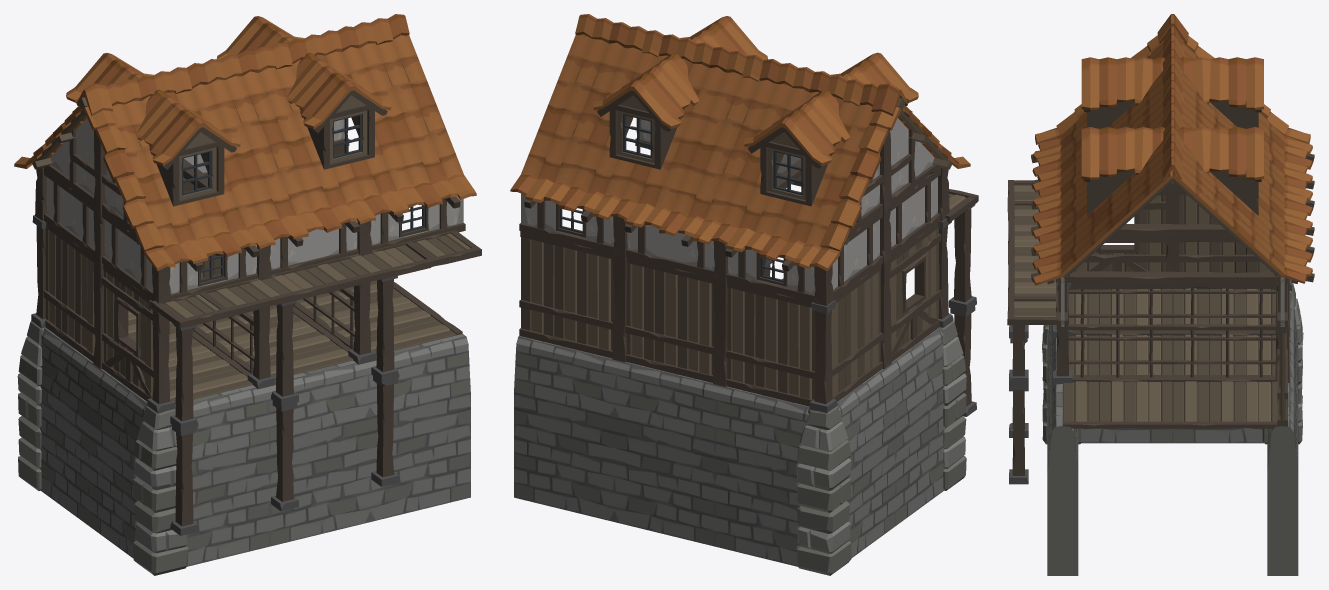
Rendered from SM_Bld_Preset_Stables_01_Optimized.glb.
3 renders of one model, left to right at view 1: azimuth 30°, elevation 25°; view 2: azimuth 150°, elevation 25°; view 3: azimuth 270°, elevation 25°, orthographic. The views are drawn at different scales.
Visible parts, largest first — view 1: SM_Bld_Preset_Stables_01_Optimized; view 2: SM_Bld_Preset_Stables_01_Optimized; view 3: SM_Bld_Preset_Stables_01_Optimized.
Part boxes in pixels (box(x1,y1,x2,y2)): SM_Bld_Preset_Stables_01_Optimized: box(14, 14, 481, 575); SM_Bld_Preset_Stables_01_Optimized: box(510, 14, 978, 575); SM_Bld_Preset_Stables_01_Optimized: box(1007, 14, 1314, 575).
Size of the model in its own units: 8.03 by 10.49 by 6.98.
1 material, 1 textured.
